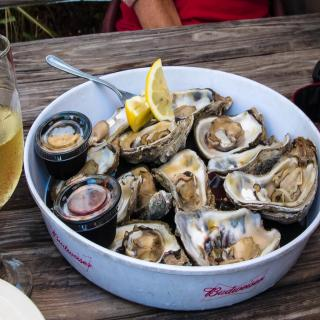Lemon: (144, 57, 176, 121), (125, 95, 154, 131)
